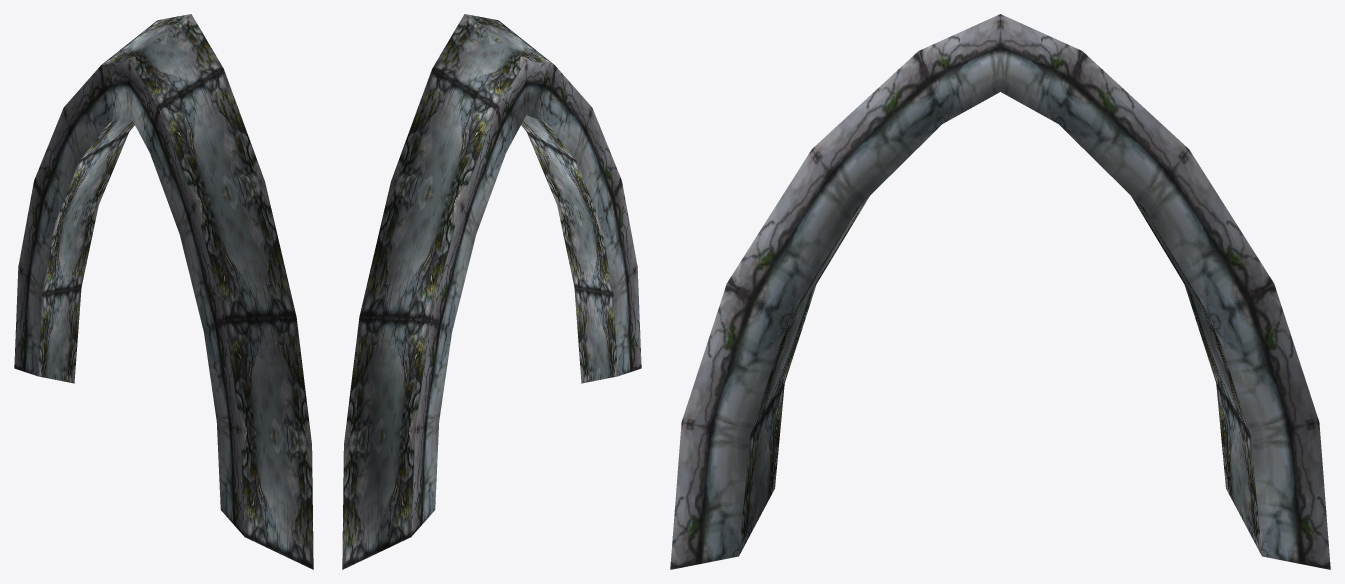
The model's file is gardenarchtop.obj.
3 renders of one model, left to right at view 1: azimuth 30°, elevation 25°; view 2: azimuth 150°, elevation 25°; view 3: azimuth 270°, elevation 25°, orthographic. The views are drawn at different scales.
Visible parts, largest first — view 1: GARDENARCHTOP0; view 2: GARDENARCHTOP0; view 3: GARDENARCHTOP0.
Boxes of the visible parts, x1=… form: GARDENARCHTOP0: x1=14, y1=14, x2=313, y2=569; GARDENARCHTOP0: x1=342, y1=14, x2=641, y2=569; GARDENARCHTOP0: x1=670, y1=14, x2=1330, y2=569.
Size of the model in its own units: 0.8246 by 5.8 by 6.17.
1 material, 1 textured.
